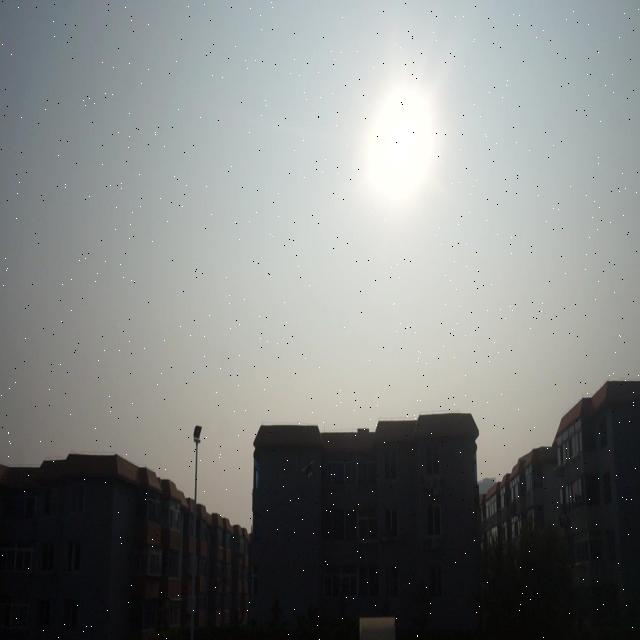UAV: (302, 460, 314, 478)
